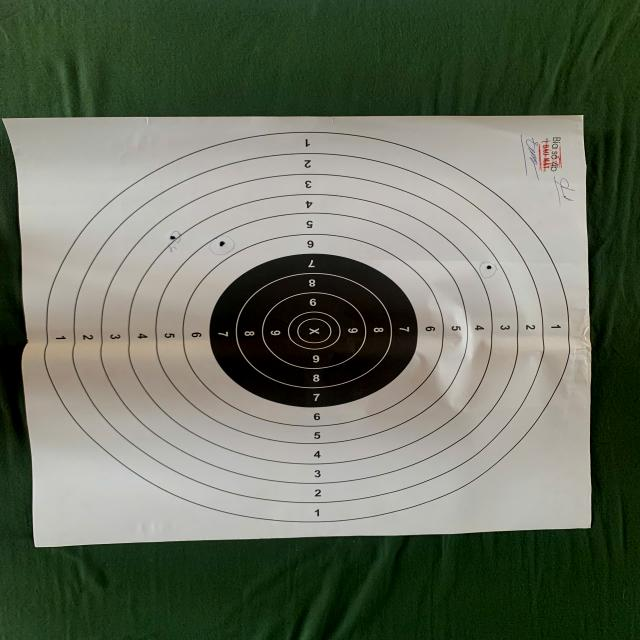bullet: (168, 236, 176, 240), (220, 240, 224, 248), (488, 264, 492, 272)
target: (8, 116, 592, 544)
